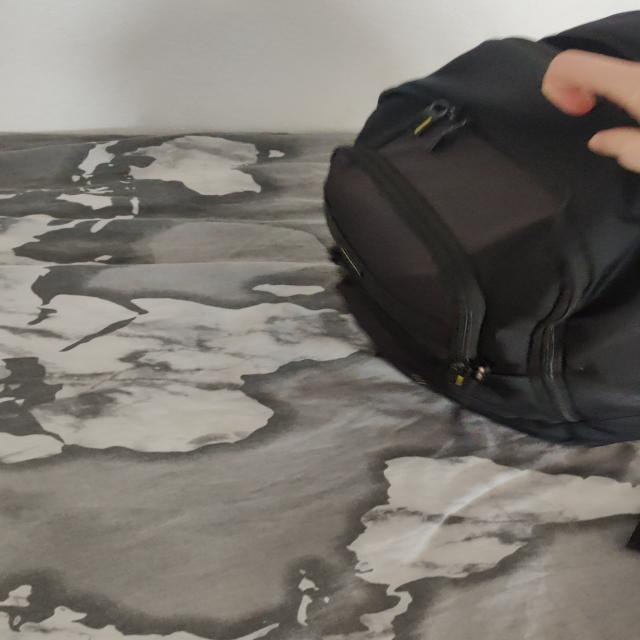backpack: (312, 29, 640, 453)
